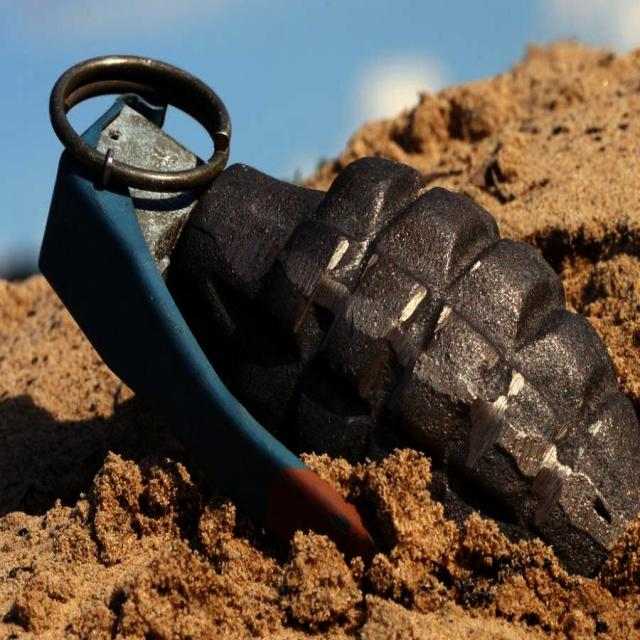grenade: (38, 55, 640, 580)
